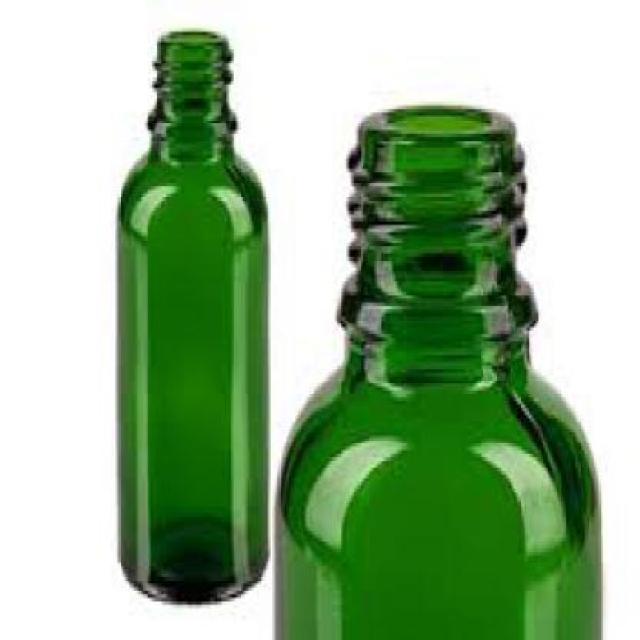kaca: (270, 101, 602, 637), (114, 28, 268, 604)
